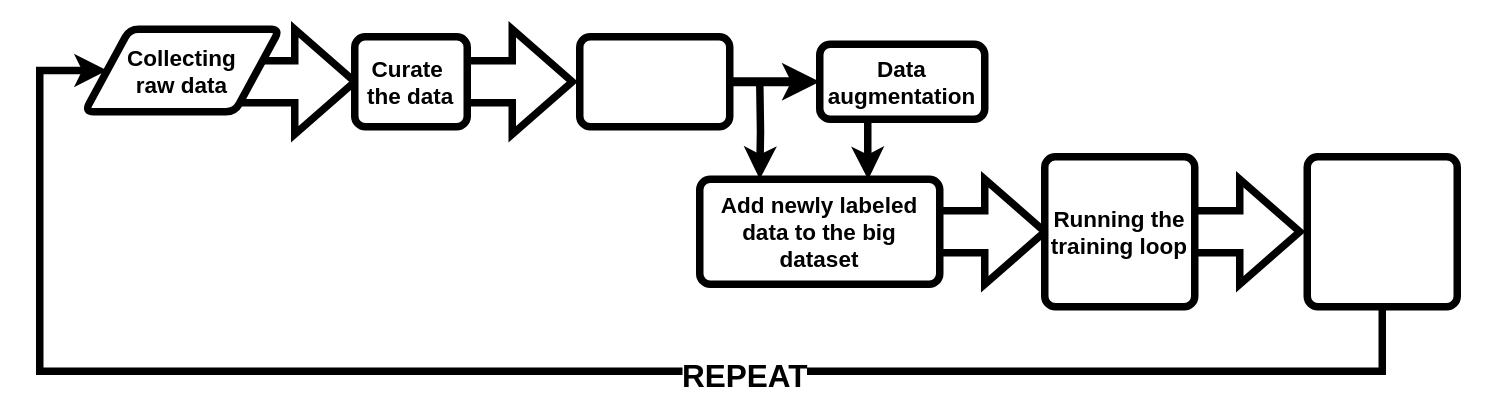
Some shapes in this 1487 by 420 pixel diagram are drawn without their labels. The centre of each missing label's shape, as x and y in pixels:
Evaluate the model: point 1381,231
Labeling data: point 654,81
